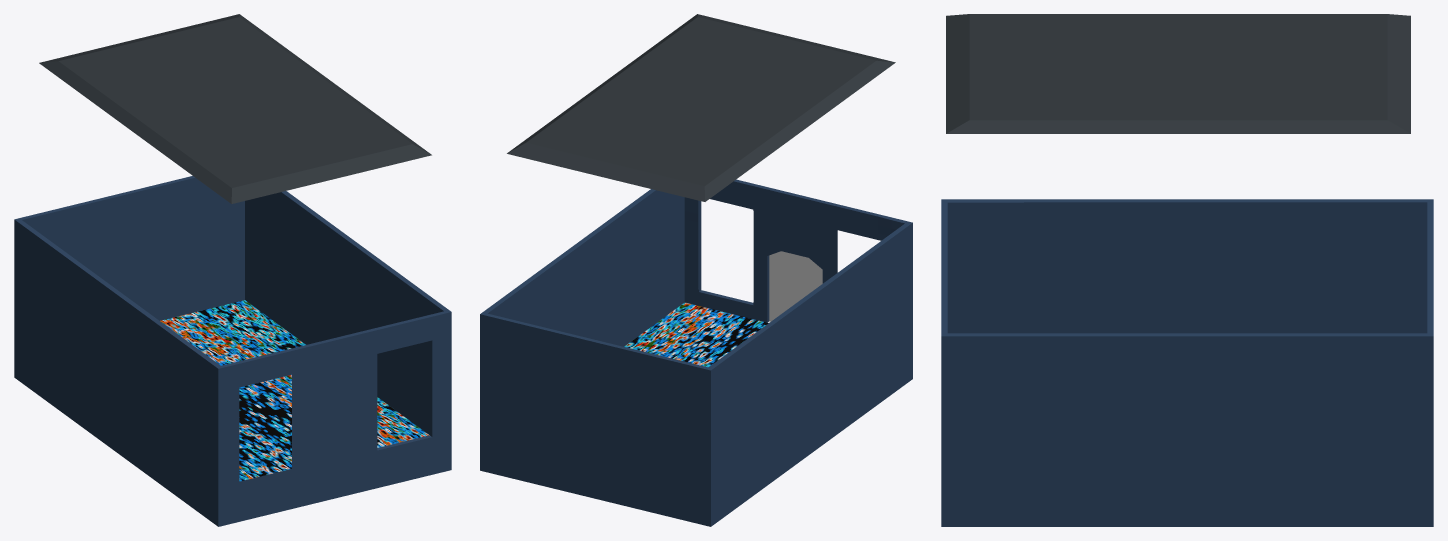
File: Arcade Inside.fbx
The picture shows the model from 3 angles, left to right: view 1: azimuth 30°, elevation 25°; view 2: azimuth 150°, elevation 25°; view 3: azimuth 270°, elevation 25°; orthographic projection. The views are drawn at different scales.
Visible parts, largest first — view 1: Cube.002, Cube.001; view 2: Cube.002, Cube.001; view 3: Cube.002, Cube.001.
Boxes of the visible parts, x1,y1,x2,y2 form: Cube.002: [14, 176, 451, 526]; Cube.001: [39, 14, 431, 203]; Cube.002: [480, 179, 912, 526]; Cube.001: [507, 14, 895, 201]; Cube.002: [941, 199, 1433, 526]; Cube.001: [946, 14, 1410, 133].
Bounding box in the file's own units: 1303 × 1730 × 1976.
